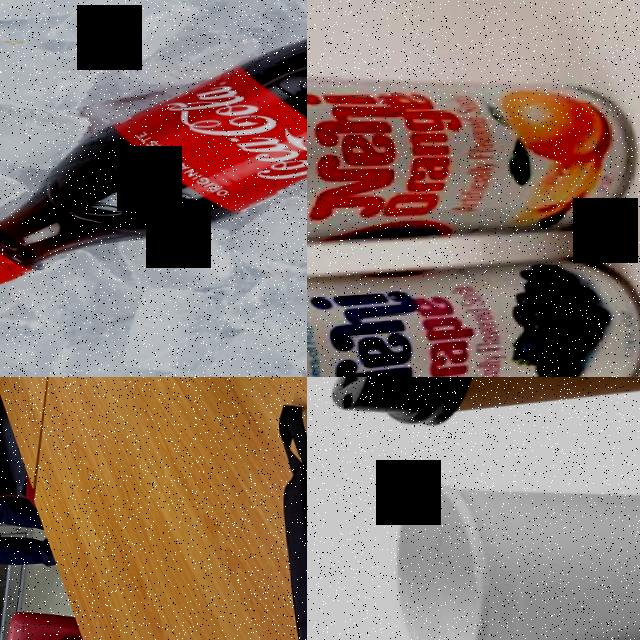bottle: (0, 0, 307, 286)
can: (307, 45, 640, 258), (307, 246, 640, 377)
cup: (390, 464, 640, 640), (326, 377, 640, 435)
